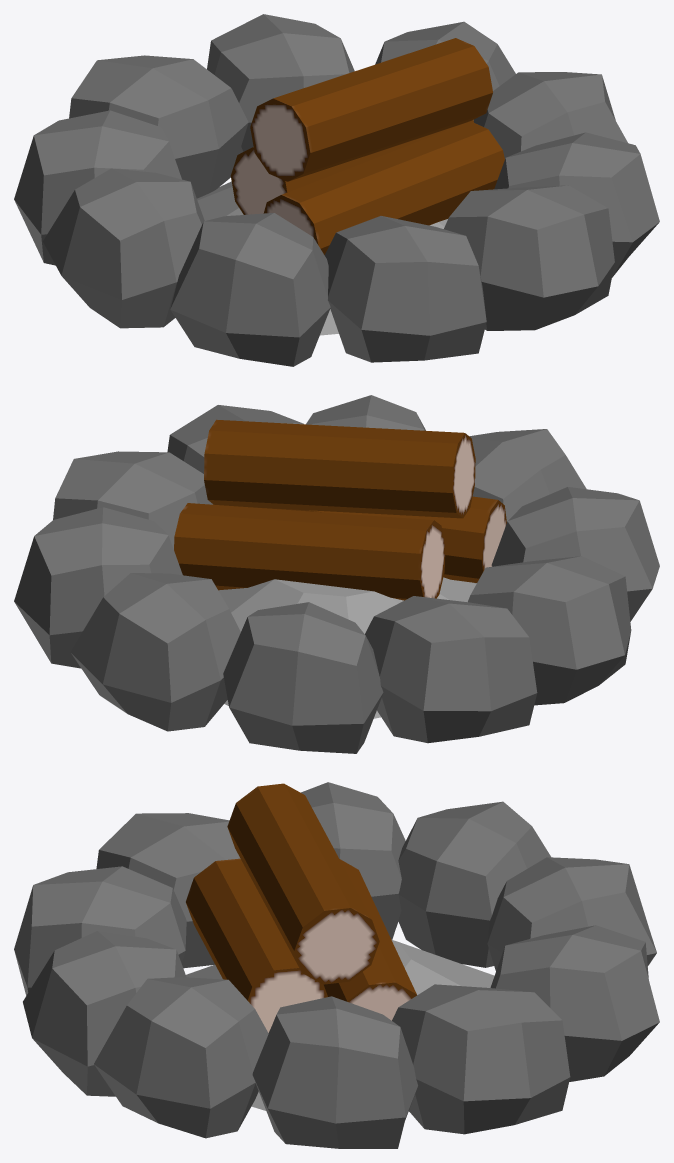
Rendered from Campfire.fbx.
The picture shows the model from 3 angles, top to bottom: view 1: azimuth 30°, elevation 25°; view 2: azimuth 150°, elevation 25°; view 3: azimuth 270°, elevation 25°; orthographic projection. The views are drawn at different scales.
Parts seen in each view (by area): view 1: Stone.004; view 2: Stone.004; view 3: Stone.004.
Part boxes in pixels (x1,y1,x2,y2): Stone.004: (14, 14, 659, 366); Stone.004: (14, 395, 659, 753); Stone.004: (14, 782, 659, 1148).
Bounding box in the file's own units: 85.25 × 28.76 × 82.36.
4 materials, 4 textured.
